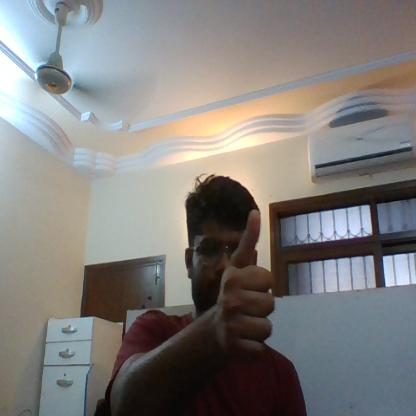thumbs-up: (219, 211, 278, 350)
